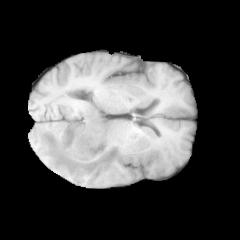glioma: (39, 100, 120, 178)
